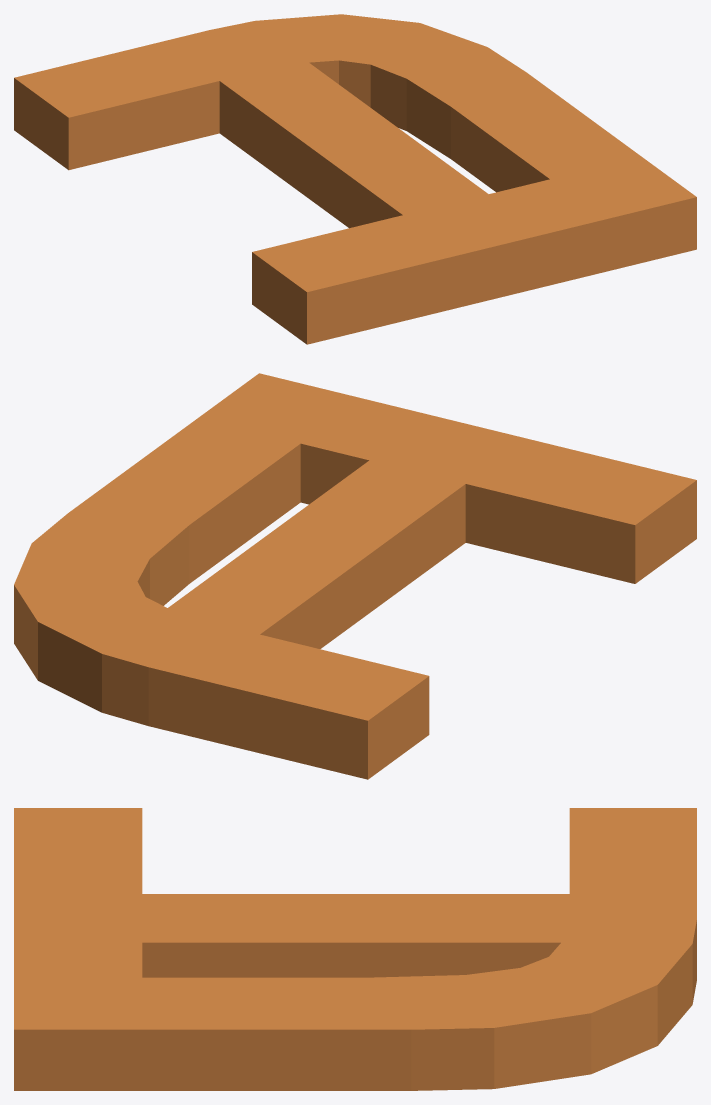
File: Alphabet_3D_01_A.FBX
3 views of the same model, one above another, from view 1: azimuth 30°, elevation 25°; view 2: azimuth 150°, elevation 25°; view 3: azimuth 270°, elevation 25° (orthographic). The views are drawn at different scales.
Visible parts, largest first — view 1: Alphabet_3D_01_A; view 2: Alphabet_3D_01_A; view 3: Alphabet_3D_01_A.
Part boxes in pixels (box(x1,y1,x2,y2)): Alphabet_3D_01_A: box(14, 14, 696, 344); Alphabet_3D_01_A: box(14, 373, 696, 779); Alphabet_3D_01_A: box(14, 808, 696, 1090).
Bounding box in the file's own units: 58.31 × 7.5 × 75.89.
